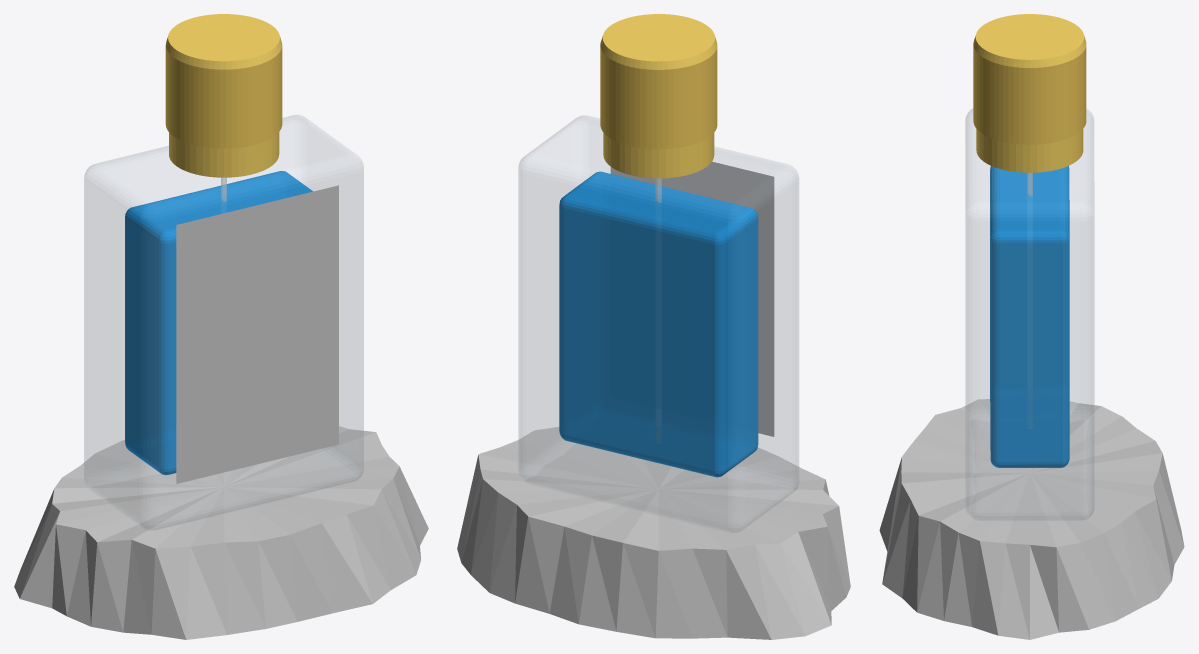
Rendered from bleu_mist.obj.
The picture shows the model from 3 angles, left to right: view 1: azimuth 30°, elevation 25°; view 2: azimuth 150°, elevation 25°; view 3: azimuth 270°, elevation 25°; orthographic projection. The views are drawn at different scales.
Visible parts, largest first — view 1: Pedestal_Rock, Glass_Bottle, Label_Plate, Perfume_Liquid, Cap_Knurled_Body, Cap_Top_Disc, Cap_Lower_Ring; view 2: Glass_Bottle, Pedestal_Rock, Perfume_Liquid, Cap_Knurled_Body, Label_Plate, Cap_Top_Disc, Cap_Lower_Ring; view 3: Pedestal_Rock, Glass_Bottle, Perfume_Liquid, Cap_Knurled_Body, Cap_Top_Disc, Cap_Lower_Ring.
Part boxes in pixels (x1=…): Pedestal_Rock: x1=14, y1=426, x2=428, y2=639; Glass_Bottle: x1=84, y1=115, x2=363, y2=529; Label_Plate: x1=176, y1=185, x2=338, y2=483; Perfume_Liquid: x1=125, y1=171, x2=312, y2=475; Cap_Knurled_Body: x1=165, y1=46, x2=282, y2=148; Cap_Top_Disc: x1=165, y1=14, x2=282, y2=69; Cap_Lower_Ring: x1=169, y1=132, x2=279, y2=177; Glass_Bottle: x1=518, y1=115, x2=798, y2=532; Pedestal_Rock: x1=457, y1=427, x2=850, y2=639; Perfume_Liquid: x1=559, y1=171, x2=758, y2=477; Cap_Knurled_Body: x1=600, y1=47, x2=717, y2=149; Label_Plate: x1=610, y1=161, x2=774, y2=436; Cap_Top_Disc: x1=600, y1=14, x2=717, y2=69; Cap_Lower_Ring: x1=603, y1=133, x2=714, y2=178; Pedestal_Rock: x1=879, y1=399, x2=1184, y2=639; Glass_Bottle: x1=965, y1=109, x2=1094, y2=520; Perfume_Liquid: x1=990, y1=166, x2=1069, y2=467; Cap_Knurled_Body: x1=973, y1=45, x2=1086, y2=144; Cap_Top_Disc: x1=973, y1=14, x2=1086, y2=67; Cap_Lower_Ring: x1=976, y1=129, x2=1083, y2=172.
Size of the model in its own units: 17.09 by 22.82 by 12.25.
